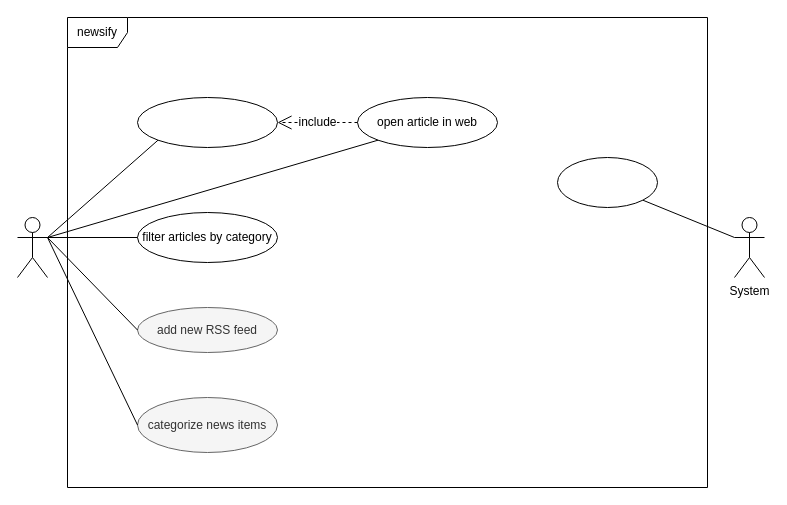
Image size: 787x505. Some labels were removed from this diagram. Each missing label, with the centre of its shape:
Poll News: the point at 607,182
User: the point at 32,247
view feed: the point at 207,122
